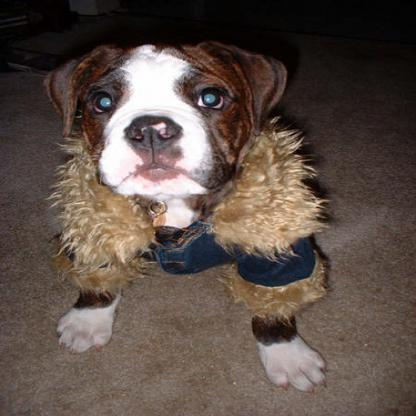dog: (43, 43, 328, 392)
